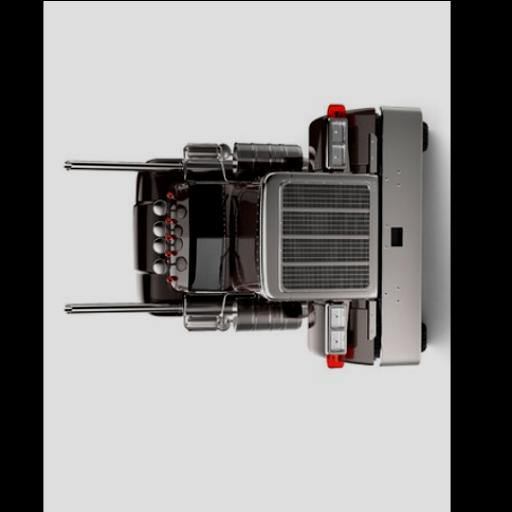van: (64, 101, 428, 366)
